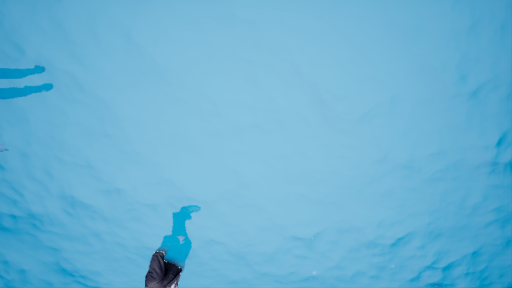person: (147, 205, 211, 287)
